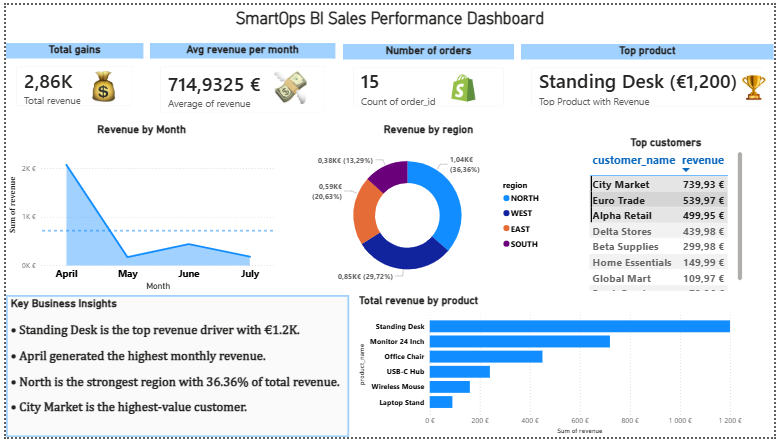

The page's visual inventory and layout, read from the dashboard file:
{"tool":"powerbi","page":{"name":"Page 1","canvas":[1280,720],"ordinal":0},"visuals":[{"type":"cardVisual","title":"Total gains","fields":{"Data":["Sum(total_order_revenue.total_revenue)"]},"box":[0,62.9,228.6,122.9],"z":0},{"type":"cardVisual","title":"Top product","fields":{"Data":["revenue_by_product.Top Product with Revenue"]},"box":[858.6,64.3,421.4,121.4],"z":1000},{"type":"areaChart","title":"Revenue by Month","fields":{"Category":["revenue_by_month.month.Variation.Date Hierarchy.Month"],"Y":["Sum(revenue_by_month.revenue)"]},"box":[0,196.1,452.2,285.4],"z":2000},{"type":"image","box":[113.8,110,98.8,51.2],"z":3000},{"type":"barChart","title":"Total revenue by product","fields":{"Category":["revenue_by_product.product_name"],"Y":["Sum(revenue_by_product.revenue)"]},"box":[583.9,481.5,648.3,238.5],"z":4000},{"type":"donutChart","title":"Revenue by region","fields":{"Category":["revenue_by_region.region"],"Y":["Sum(revenue_by_region.revenue)"]},"box":[504.9,196.1,398,286.8],"z":5000},{"type":"tableEx","title":"Top customers","fields":{"Values":["top_customers.customer_name","top_customers.revenue"]},"box":[965.9,218,266.3,263.4],"z":6000},{"type":"image","box":[1213.8,90,66.2,95],"z":7000},{"type":"textbox","box":[0,0,1280,50],"z":8000},{"type":"cardVisual","title":"Avg revenue per month","fields":{"Data":["Avg(revenue_by_month.revenue)"]},"box":[240,62.9,308.8,133.2],"z":9000},{"type":"cardVisual","title":"Number of orders","fields":{"Data":["CountNonNull(total_order_revenue.order_id)"]},"box":[561.7,65,285,121.7],"z":10000},{"type":"image","box":[703.8,91.2,117.5,93.8],"z":11000},{"type":"image","box":[421.2,110,105,55],"z":12000},{"type":"textbox","title":"Key Business Insights","box":[0,483.3,571.7,236.7],"z":12001}]}

Visuals, with their boxes in screenshot pixels (x1, y1, x2, y2), scaled from the page's 1280x720 canvas onto the 781x443 screenshot:
"Total gains" cardVisual: box=[0, 39, 139, 114]
"Top product" cardVisual: box=[524, 40, 780, 114]
"Revenue by Month" areaChart: box=[0, 121, 276, 296]
image: box=[69, 68, 130, 99]
"Total revenue by product" barChart: box=[356, 296, 752, 442]
"Revenue by region" donutChart: box=[308, 121, 551, 297]
"Top customers" tableEx: box=[589, 134, 752, 296]
image: box=[741, 55, 780, 114]
textbox: box=[0, 0, 780, 31]
"Avg revenue per month" cardVisual: box=[146, 39, 335, 121]
"Number of orders" cardVisual: box=[343, 40, 517, 115]
image: box=[429, 56, 501, 114]
image: box=[257, 68, 321, 102]
"Key Business Insights" textbox: box=[0, 297, 349, 442]
